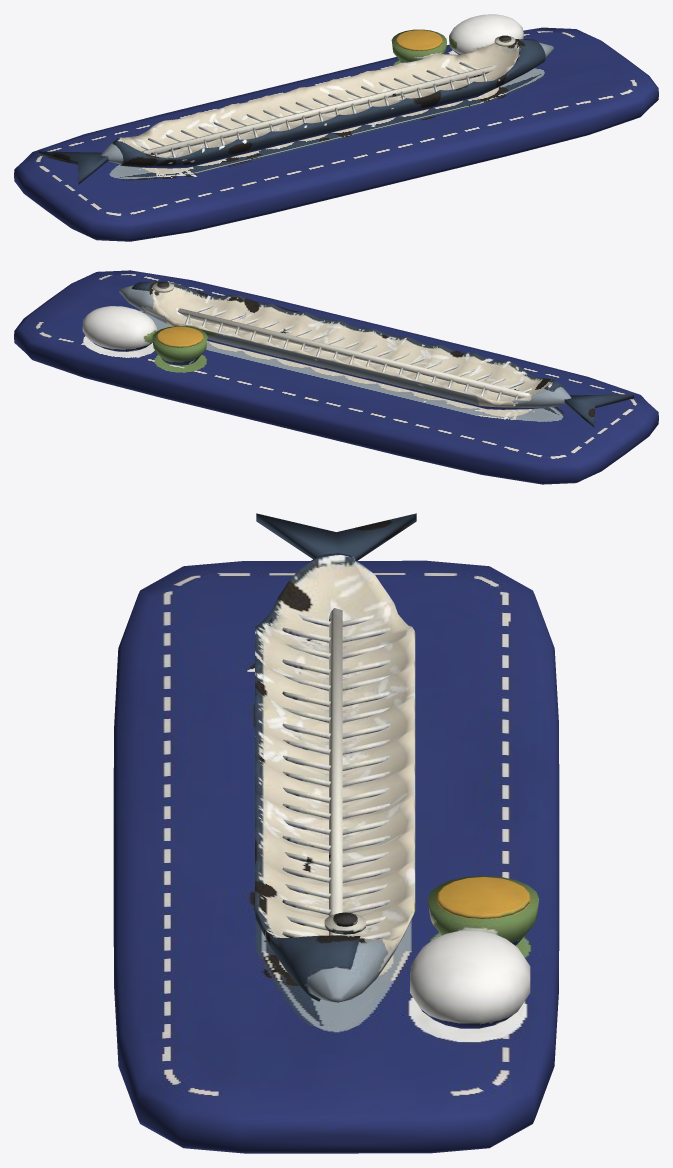
File: sanma_b2.glb
3 renders of one model, top to bottom at view 1: azimuth 30°, elevation 25°; view 2: azimuth 150°, elevation 25°; view 3: azimuth 270°, elevation 25°, orthographic. The views are drawn at different scales.
Visible parts, largest first — view 1: prop_sanma_b2_felt; view 2: prop_sanma_b2_felt; view 3: prop_sanma_b2_felt.
Part boxes in pixels (left/top/right/bottom): prop_sanma_b2_felt: left=14, top=14, right=658, bottom=241; prop_sanma_b2_felt: left=14, top=270, right=658, bottom=484; prop_sanma_b2_felt: left=113, top=513, right=559, bottom=1153.
Size of the model in its own units: 0.4501 by 0.0501 by 0.1501.
Materials: 1 (1 with a texture image).
